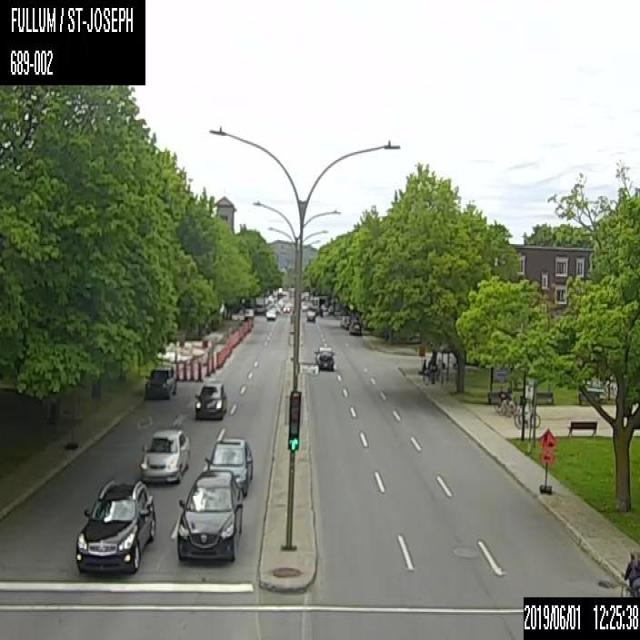construction: (536, 427, 559, 493), (187, 362, 195, 381), (173, 361, 180, 380), (195, 361, 202, 380), (181, 360, 187, 380), (209, 354, 215, 372), (204, 357, 210, 375), (216, 353, 220, 368)
pedestrian: (428, 353, 437, 383)
vehicle: (74, 479, 156, 578), (174, 469, 244, 564), (139, 426, 189, 481), (202, 437, 252, 491), (195, 378, 227, 418), (144, 363, 176, 401), (617, 549, 639, 595), (312, 345, 334, 371), (348, 317, 362, 335), (244, 308, 254, 319), (265, 308, 275, 319), (306, 308, 314, 321), (282, 303, 290, 312)
